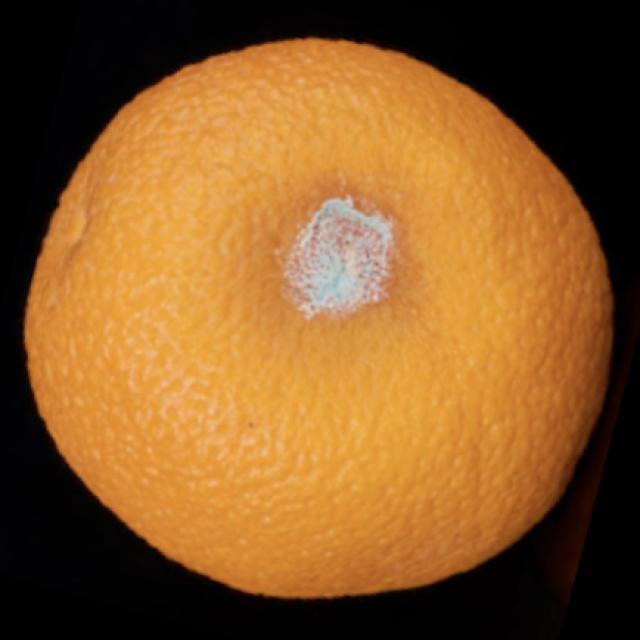sedikit-busuk: (25, 39, 611, 597)
